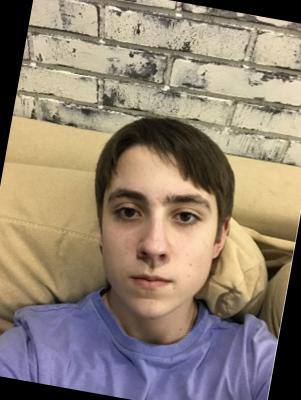without_mask: (84, 174, 222, 327)
